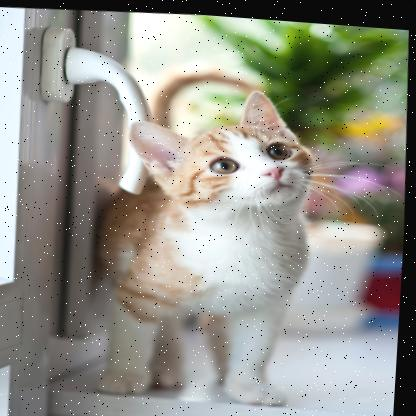cat: (64, 75, 330, 416)
